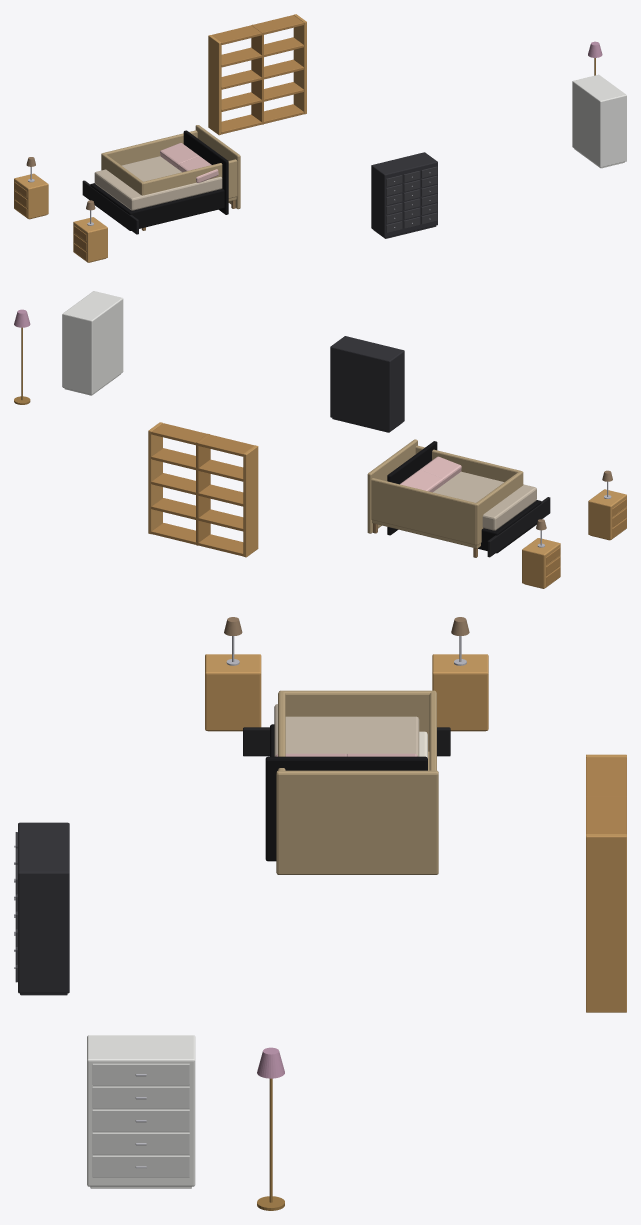
File: agent_scene.glb
The picture shows the model from 3 angles, top to bottom: view 1: azimuth 30°, elevation 25°; view 2: azimuth 150°, elevation 25°; view 3: azimuth 270°, elevation 25°; orthographic projection. The views are drawn at different scales.
Parts seen in each view (by area): view 1: shelf, bed_dark, dresser, chest, bed_light, nightstand_a, nightstand_b; view 2: shelf, bed_light, dresser, bed_dark, chest, nightstand_b, nightstand_a, floor_lamp; view 3: bed_light, chest, shelf, bed_dark, dresser, nightstand_b, nightstand_a, floor_lamp.
Boxes of the visible parts, x1,y1,x2,y2 form: shelf: (208,14,306,135); bed_dark: (82,130,228,234); dresser: (371,152,437,238); chest: (572,74,626,168); bed_light: (101,125,240,230); nightstand_a: (14,157,48,219); nightstand_b: (73,200,107,262); shelf: (148,422,258,557); bed_light: (367,439,523,557); dresser: (330,336,404,432); bed_dark: (387,441,550,557); chest: (62,291,123,395); nightstand_b: (588,470,626,540); nightstand_a: (522,519,560,588); floor_lamp: (14,309,30,404); bed_light: (276,690,438,874); chest: (87,1035,195,1188); shelf: (586,754,626,1012); bed_dark: (243,704,450,861); dresser: (14,822,69,995); nightstand_b: (205,617,261,731); nightstand_a: (432,617,488,731); floor_lamp: (257,1047,284,1210).
Size of the model in its own units: 10.85 by 1.8 by 5.67.
